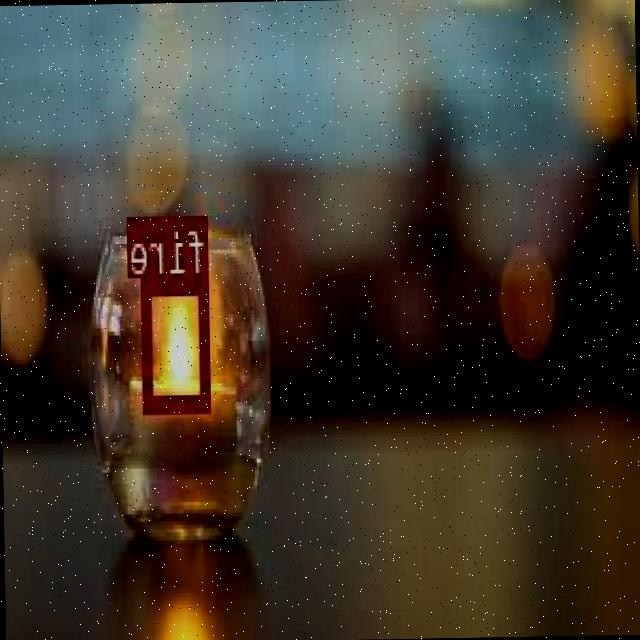fire: (143, 274, 211, 410)
